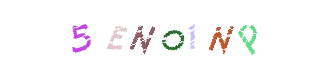1: (133, 0, 213, 80)
5: (41, 0, 121, 80)
E: (107, 0, 187, 80)
N: (111, 0, 191, 80), (180, 0, 260, 80)
O: (122, 0, 202, 80)
P: (199, 0, 279, 80)
